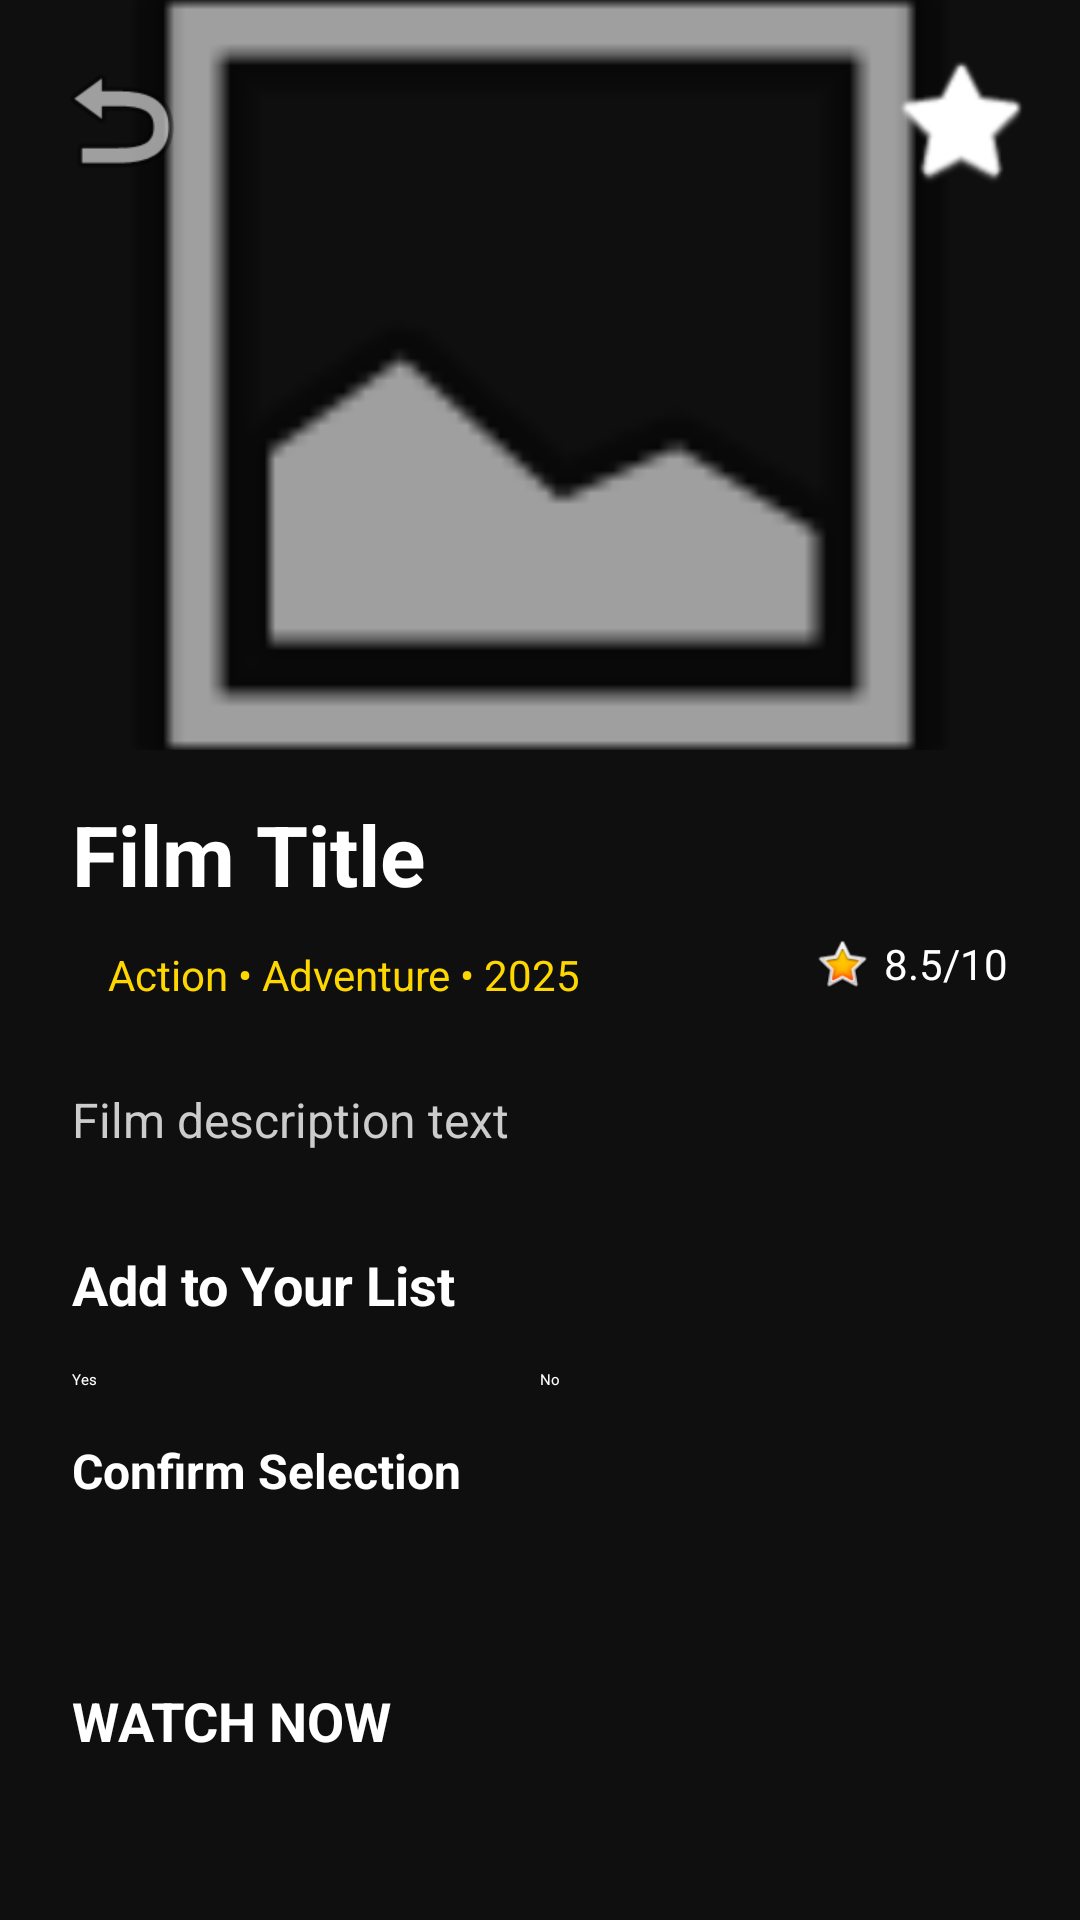

Icon click points for this 1080 x 1920 phone screenshot, format point (x, y):
star off: point (955, 120)
star on: point (843, 964)
